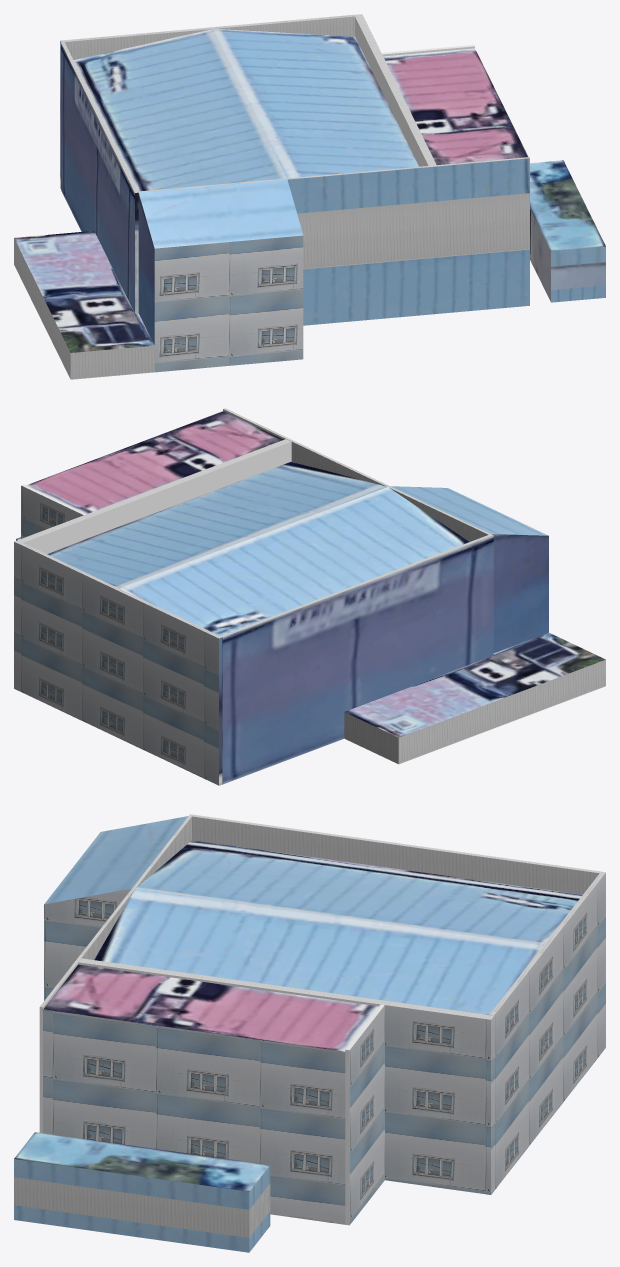
File: Lecu_inae2.gltf
3 renders of one model, top to bottom at view 1: azimuth 30°, elevation 25°; view 2: azimuth 150°, elevation 25°; view 3: azimuth 270°, elevation 25°, orthographic. The views are drawn at different scales.
Visible parts, largest first — view 1: simuladores2.002; view 2: simuladores2.002; view 3: simuladores2.002.
Part boxes in pixels (x1,y1,x2,y2): simuladores2.002: (14, 14, 605, 379); simuladores2.002: (14, 408, 605, 785); simuladores2.002: (14, 814, 605, 1252).
Size of the model in its own units: 31.34 by 8.16 by 24.93.
